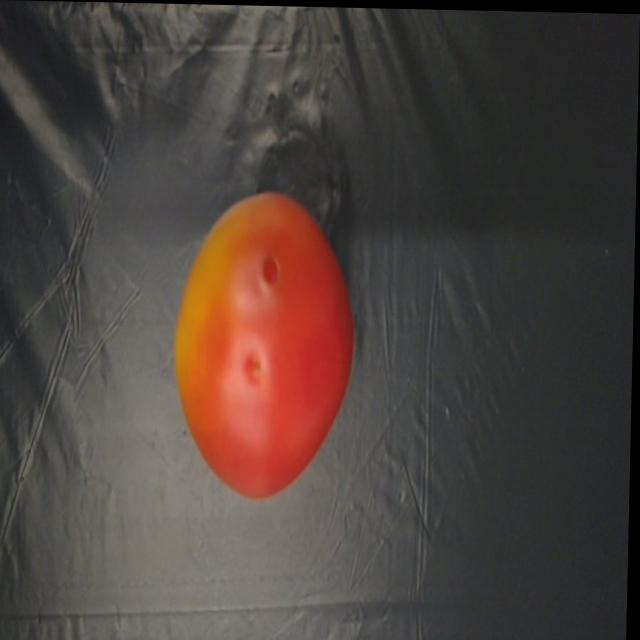sari: (158, 186, 363, 513)
